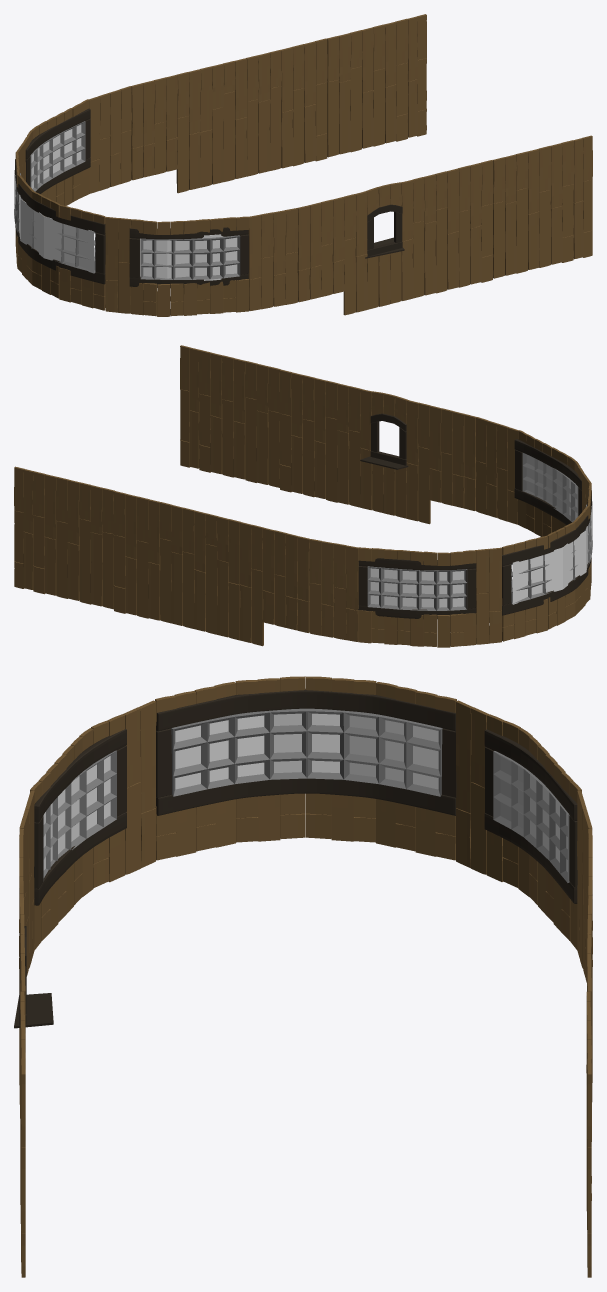
Rendered from paredesyVentanas.fbx.
The picture shows the model from 3 angles, top to bottom: view 1: azimuth 30°, elevation 25°; view 2: azimuth 150°, elevation 25°; view 3: azimuth 270°, elevation 25°; orthographic projection. The views are drawn at different scales.
Parts seen in each view (by area): view 1: Pared.001; view 2: Pared.001; view 3: Pared.001.
Boxes of the visible parts, x1,y1,x2,y2 form: Pared.001: (14, 14, 592, 316); Pared.001: (14, 345, 592, 647); Pared.001: (14, 676, 592, 1277).
Size of the model in its own units: 15.95 by 3.86 by 9.81.
